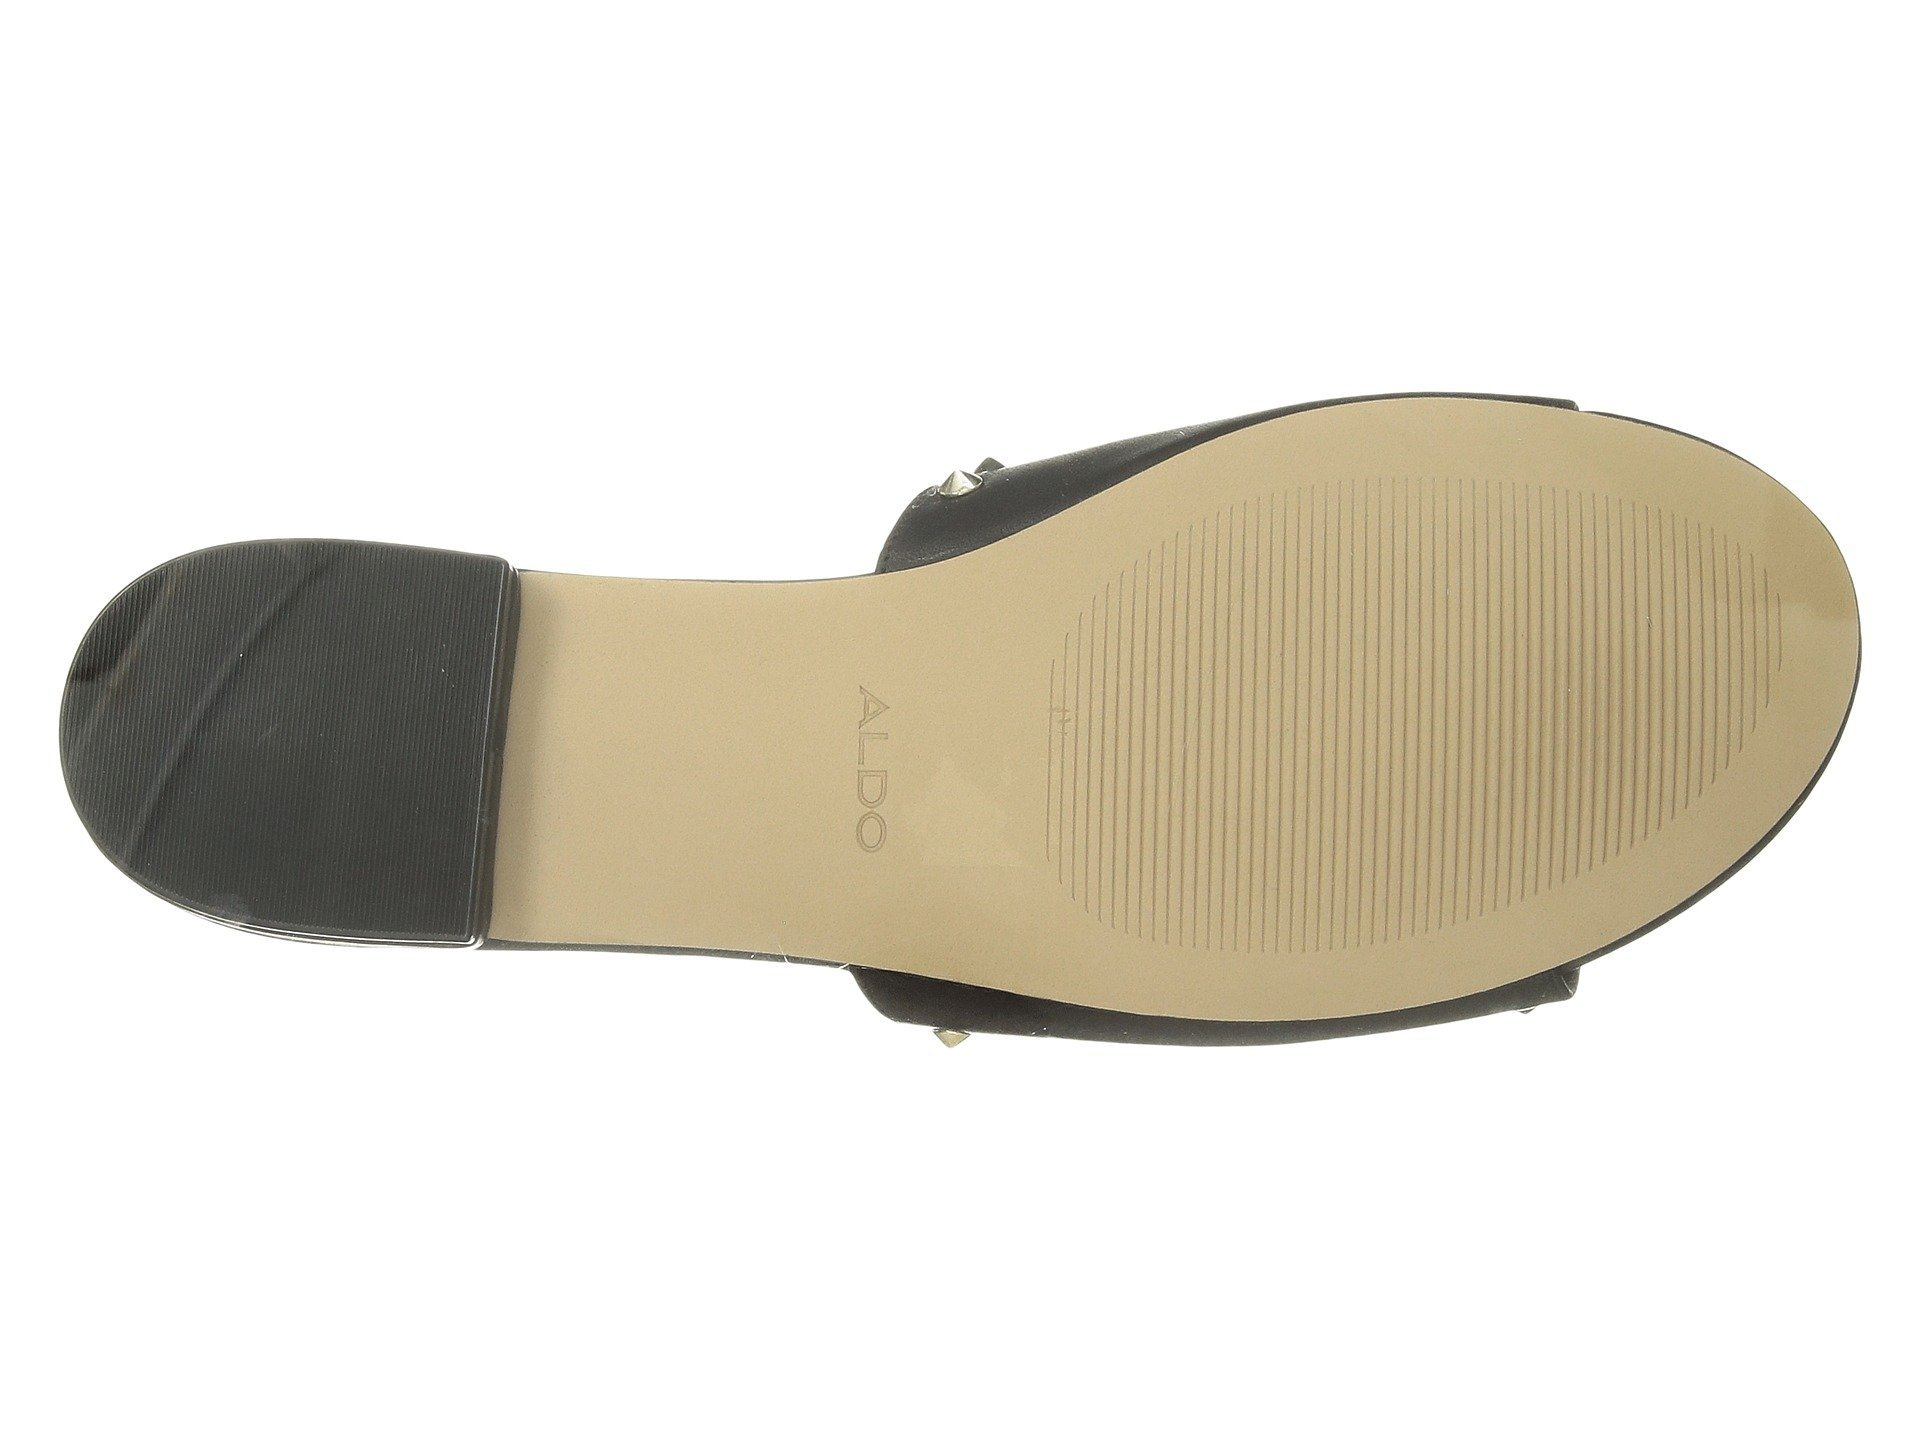circle: (797, 629, 955, 900)
line: (1205, 517, 1612, 849), (135, 594, 410, 855)
text: (797, 629, 955, 900)
